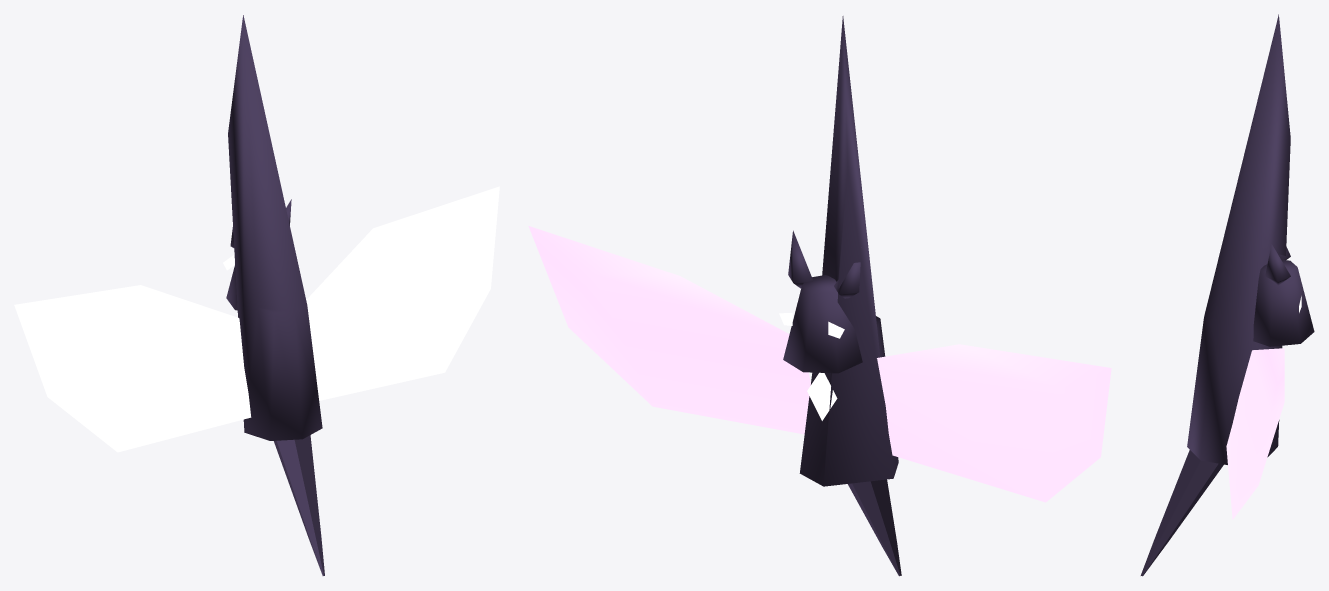
The model's file is Murcielago_Sombra_Combined.fbx.
3 renders of one model, left to right at view 1: azimuth 30°, elevation 25°; view 2: azimuth 150°, elevation 25°; view 3: azimuth 270°, elevation 25°, orthographic. The views are drawn at different scales.
Parts seen in each view (by area): view 1: Murcielago_Sombra_Combined; view 2: Murcielago_Sombra_Combined; view 3: Murcielago_Sombra_Combined.
Boxes of the visible parts, x1,y1,x2,y2 form: Murcielago_Sombra_Combined: (14,15,499,575); Murcielago_Sombra_Combined: (528,16,1111,576); Murcielago_Sombra_Combined: (1140,14,1314,576).
Size of the model in its own units: 4.6 by 4.7 by 1.34.
